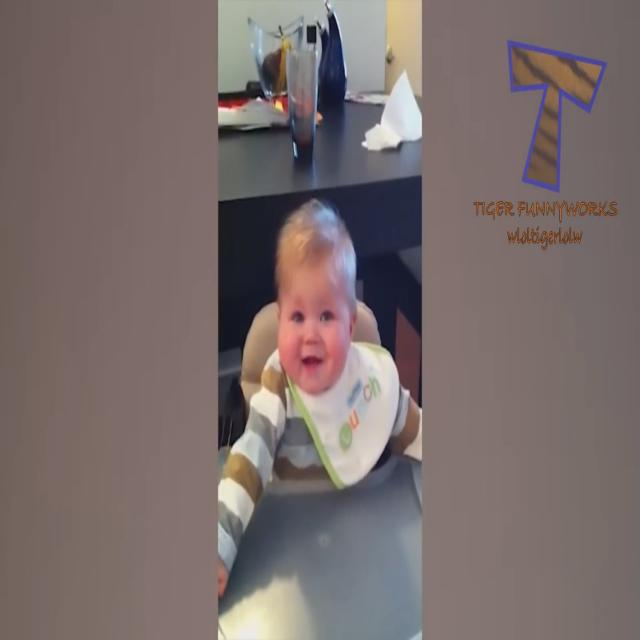safe: (258, 191, 382, 493)
